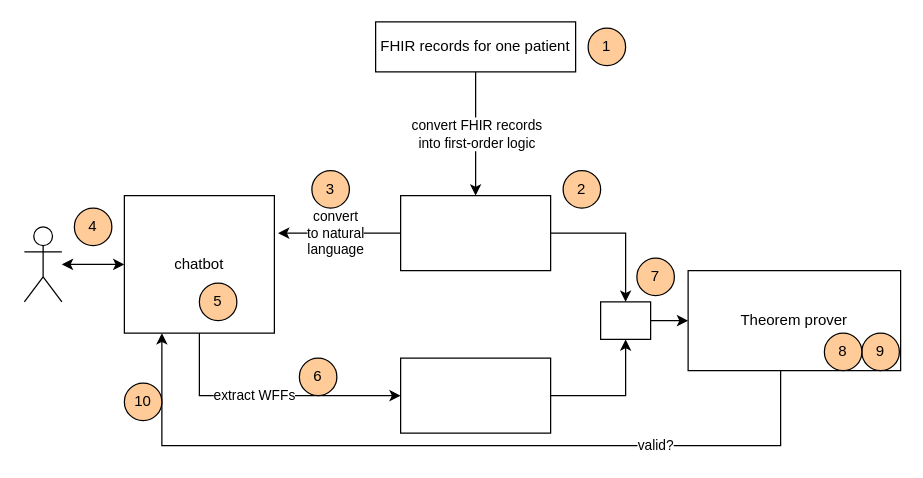
The diagram is 923 pixels wide and 478 high, and some of its shapes have lost their labels. The shapes that lost their labels are listed below. From the top down, each one's centre as x and y in pixels, then its label:
point 475,232: a theory (a set of WFFs)
point 42,264: Doctor
point 625,320: merge
point 475,395: extracted WFFs
